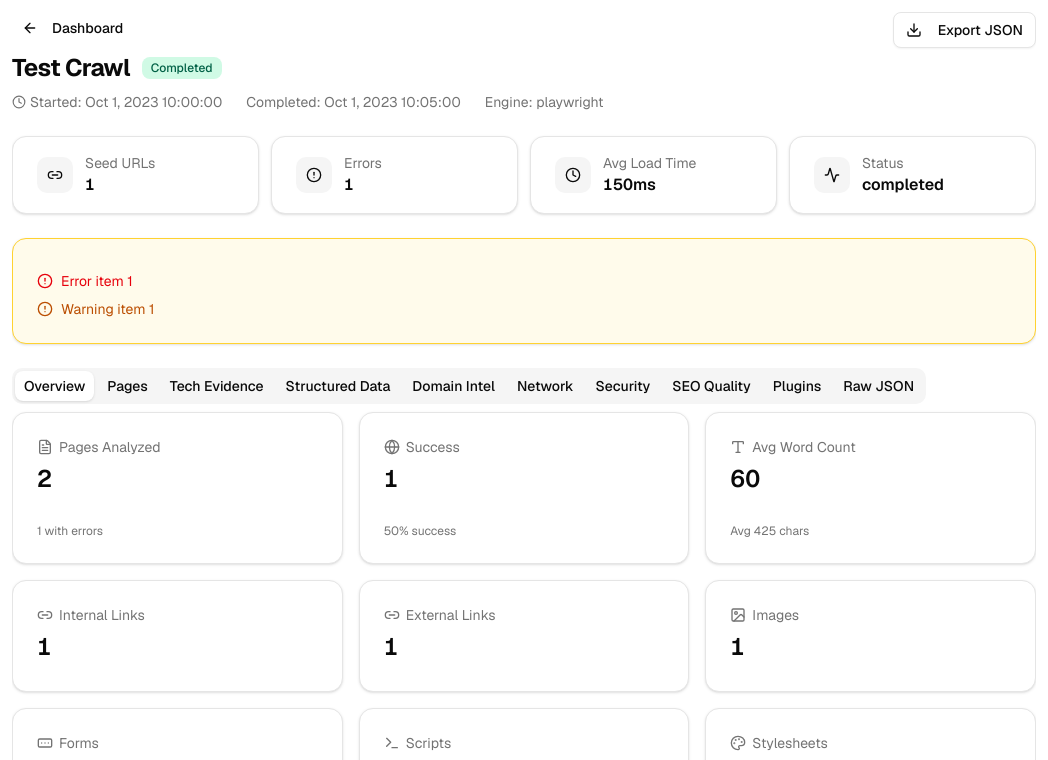
Test case: CrawlDetailView › renders Pages tab content and accordion items
Expected: the heading "Test Crawl" is shown, [12,52,130,84]
Click the tab "Pages": (128, 386) [98,371,157,401]
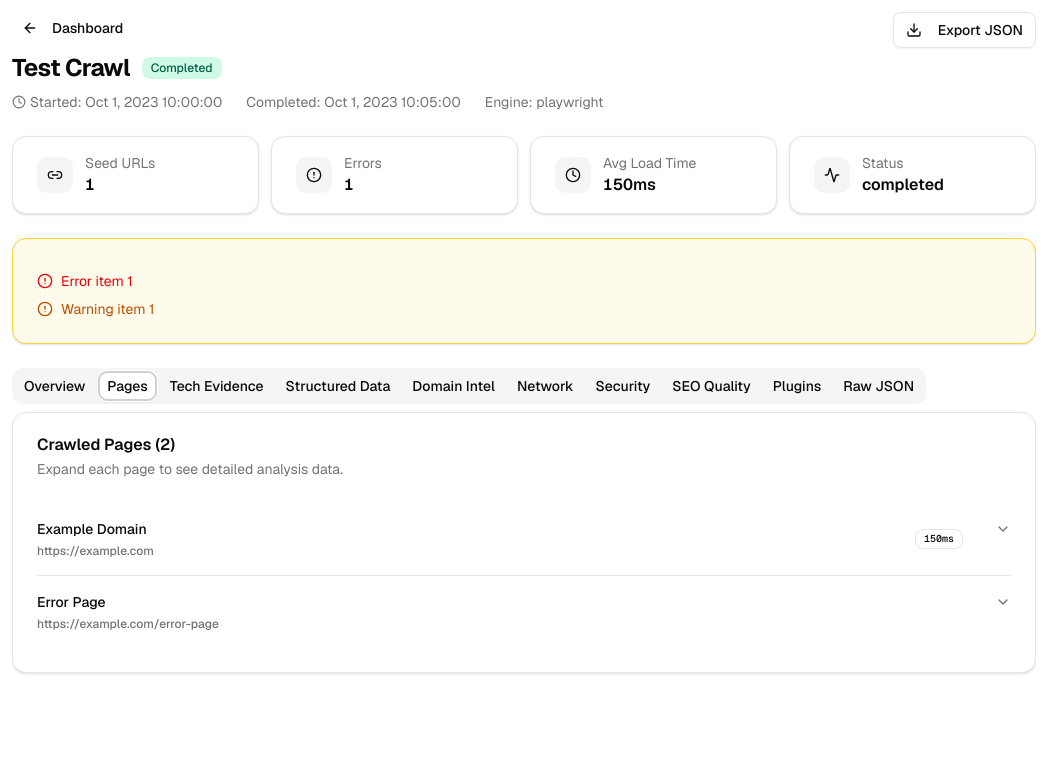
Expected: the text "Crawled Pages (2)" is shown, [37,434,175,455]
Expected: the text "Example Domain" is shown, [37,519,154,539]
